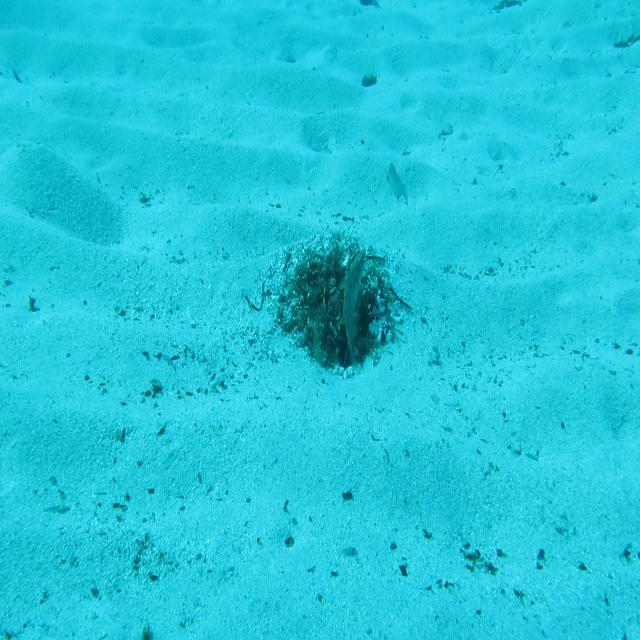H_UP: (343, 245, 368, 379)
female: (382, 158, 414, 213)
nest: (278, 236, 405, 381)
